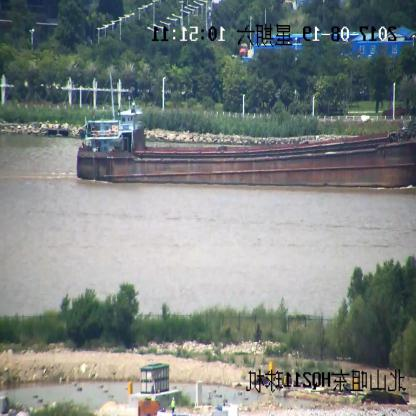Bulk Carrier: (75, 100, 416, 187)
